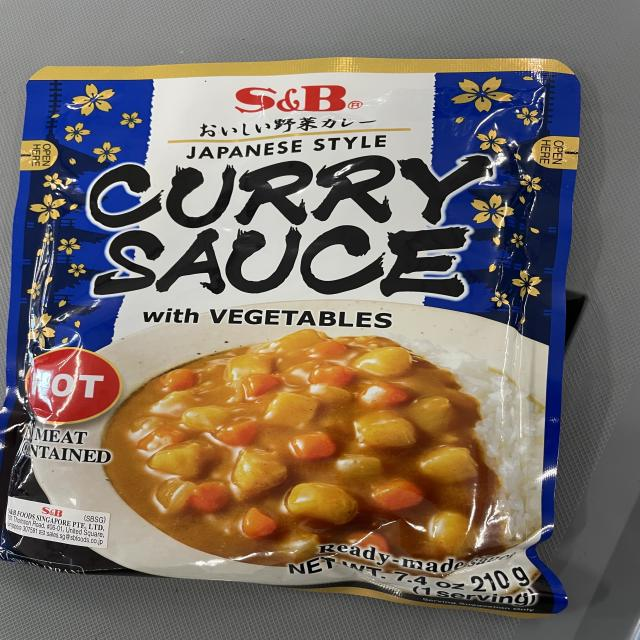object_name: (30, 70, 546, 598)
